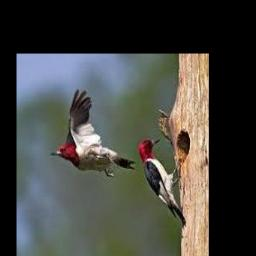Woodpecker: (50, 89, 136, 177), (137, 138, 186, 227)
